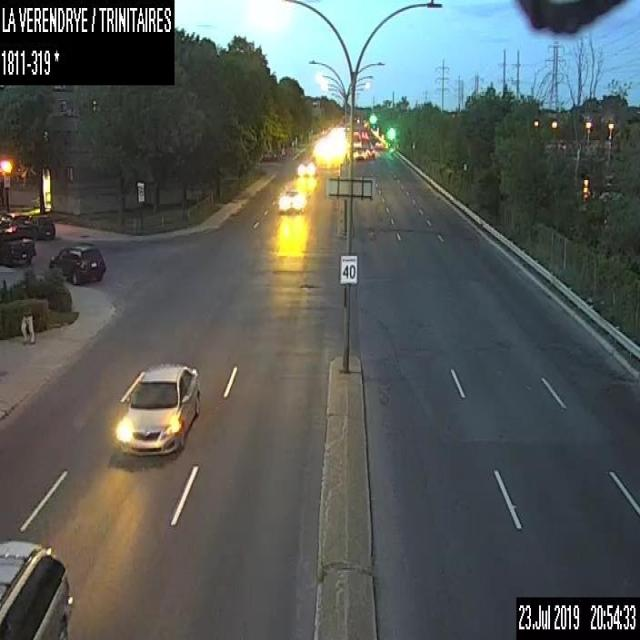pedestrian: (19, 288, 34, 345)
vehicle: (118, 362, 201, 458), (0, 538, 71, 638), (48, 241, 105, 284), (0, 230, 35, 266), (17, 214, 55, 238), (0, 210, 25, 234), (279, 188, 302, 210), (298, 160, 314, 174), (353, 130, 361, 148), (354, 148, 364, 160), (365, 147, 374, 158), (374, 140, 382, 148), (360, 129, 367, 138)
